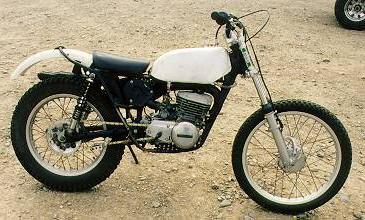motorcycle: (8, 6, 358, 217)
